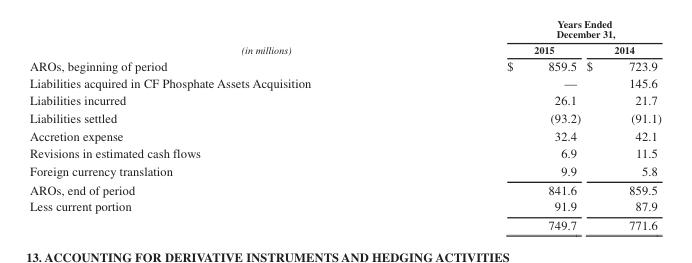table: (28, 29, 660, 232)
table column: (28, 29, 408, 232), (408, 29, 582, 232), (582, 29, 660, 232)
table column header: (28, 29, 660, 58)
table row: (28, 162, 660, 181), (28, 109, 660, 127), (28, 127, 660, 145), (28, 198, 660, 216), (28, 58, 660, 75), (28, 75, 660, 92), (28, 92, 660, 109), (28, 145, 660, 162), (28, 181, 660, 198), (28, 42, 660, 58), (28, 216, 660, 232), (28, 29, 660, 42)
table spanning cell: (28, 29, 408, 58), (408, 29, 660, 42)
